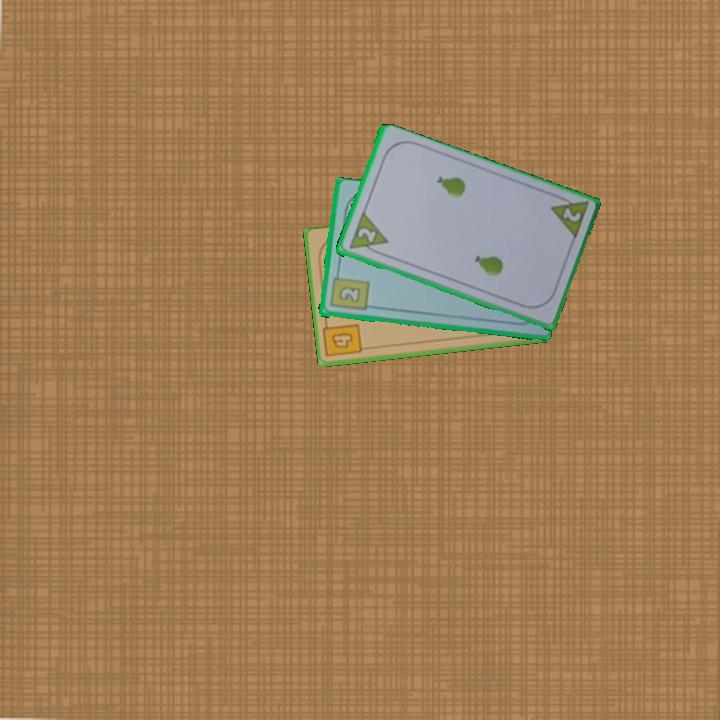2b: (326, 268, 371, 314)
2p: (546, 191, 591, 243), (353, 224, 378, 246)
4b: (321, 317, 365, 360)
